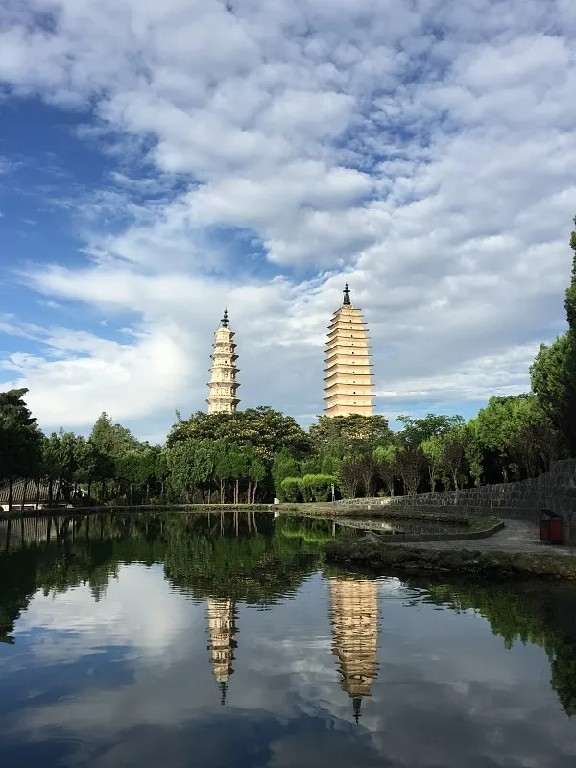ThreePagoda: (324, 284, 376, 417)
